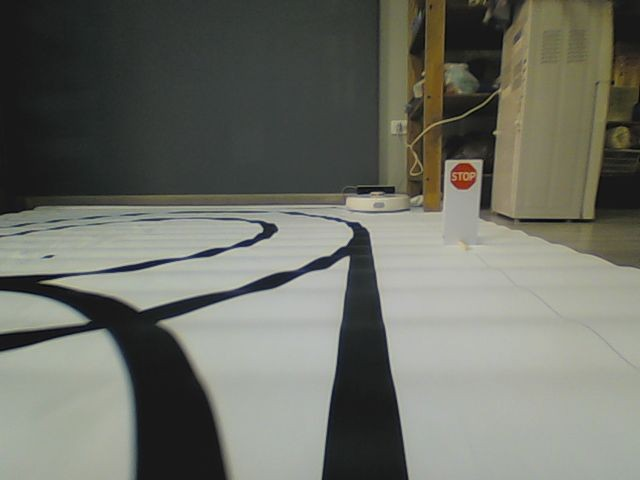Stop: (449, 162, 479, 191)
